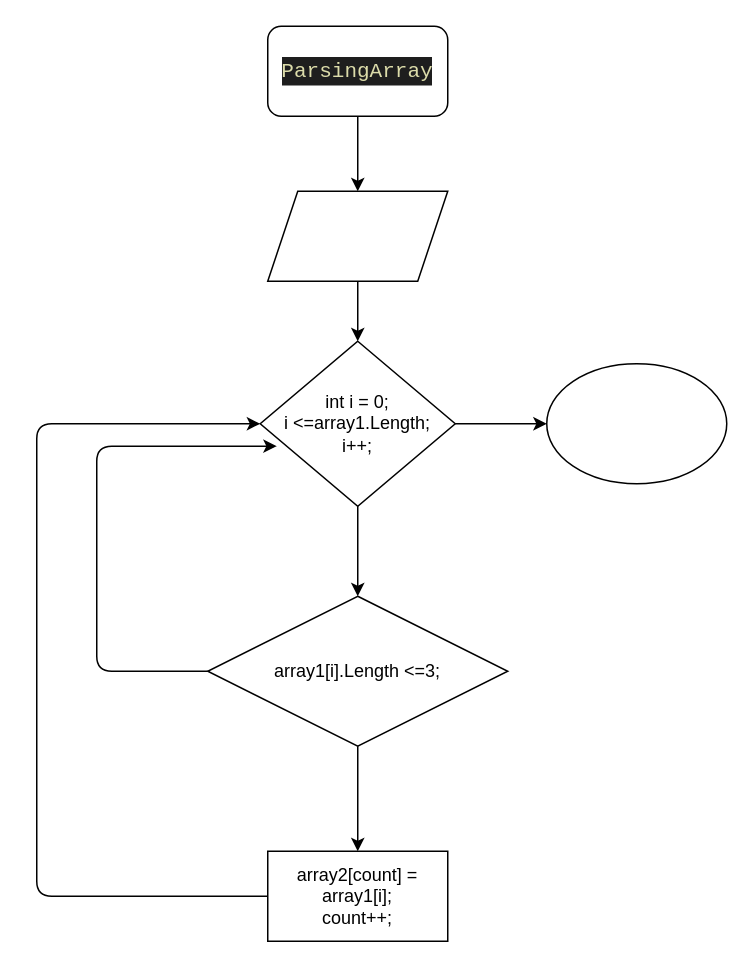
Image size: 753x968. Some labels were removed from this diagram. Here are the shapes that lost their labels. From the top down, the centre of each, then its label:
At (x=357, y=235): "array1 array2 intcount =0;".
At (x=636, y=423): "End".
